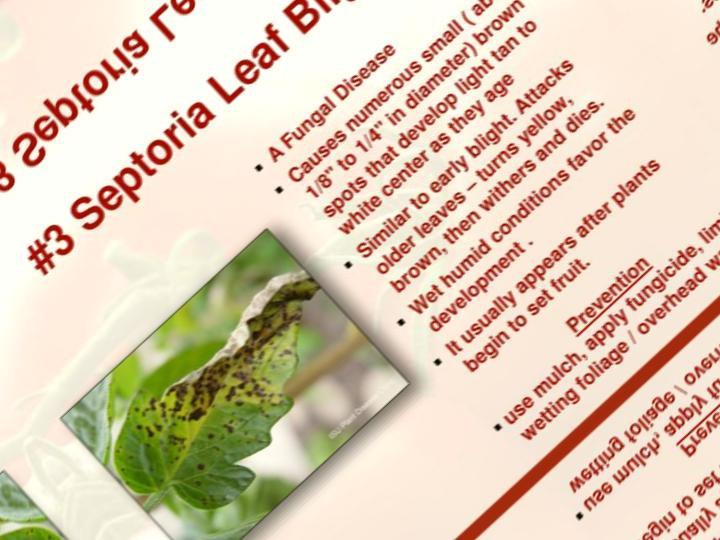Tomato Septoria leaf spot: (90, 256, 389, 540)
